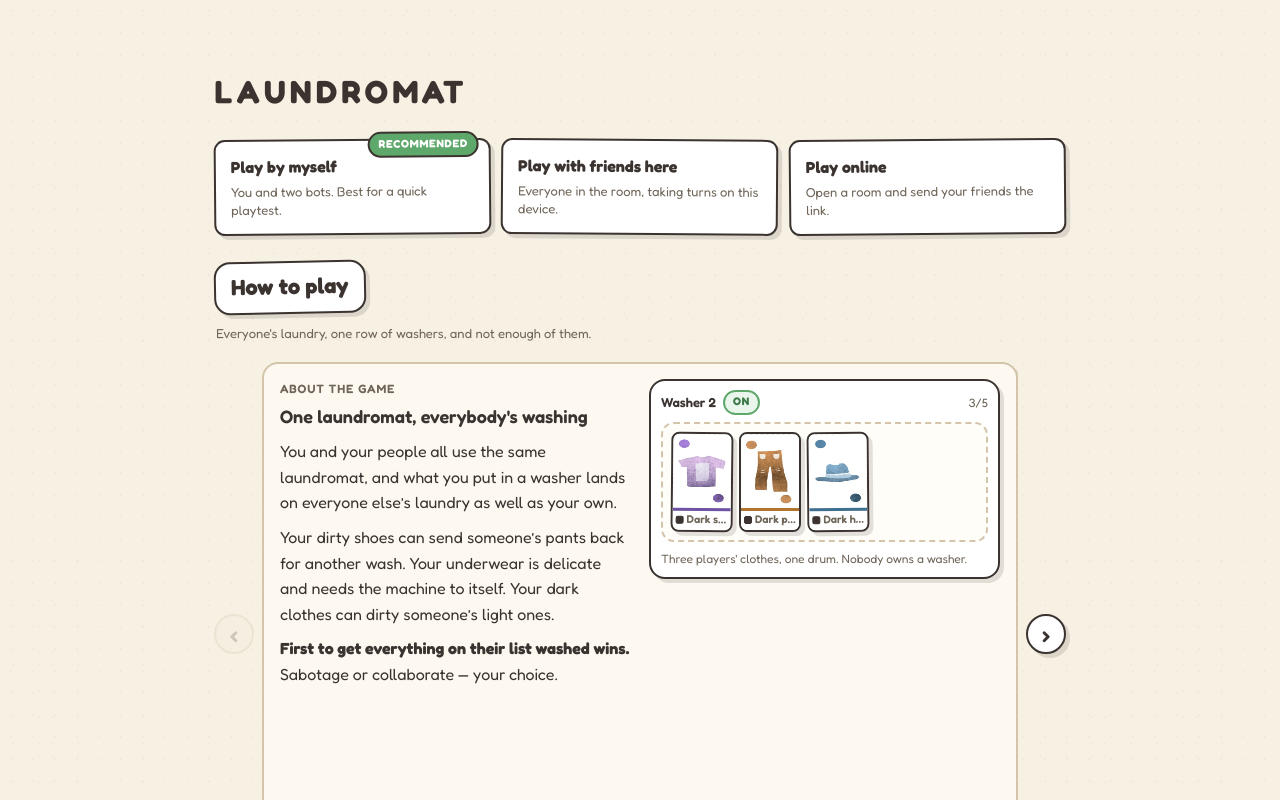
Test: mode chooser › online is a detour, not a trap — Back returns to hot-seat
Click the text "Play online". click: (846, 167)
box: top-left (805, 154), bottom-right (886, 180)
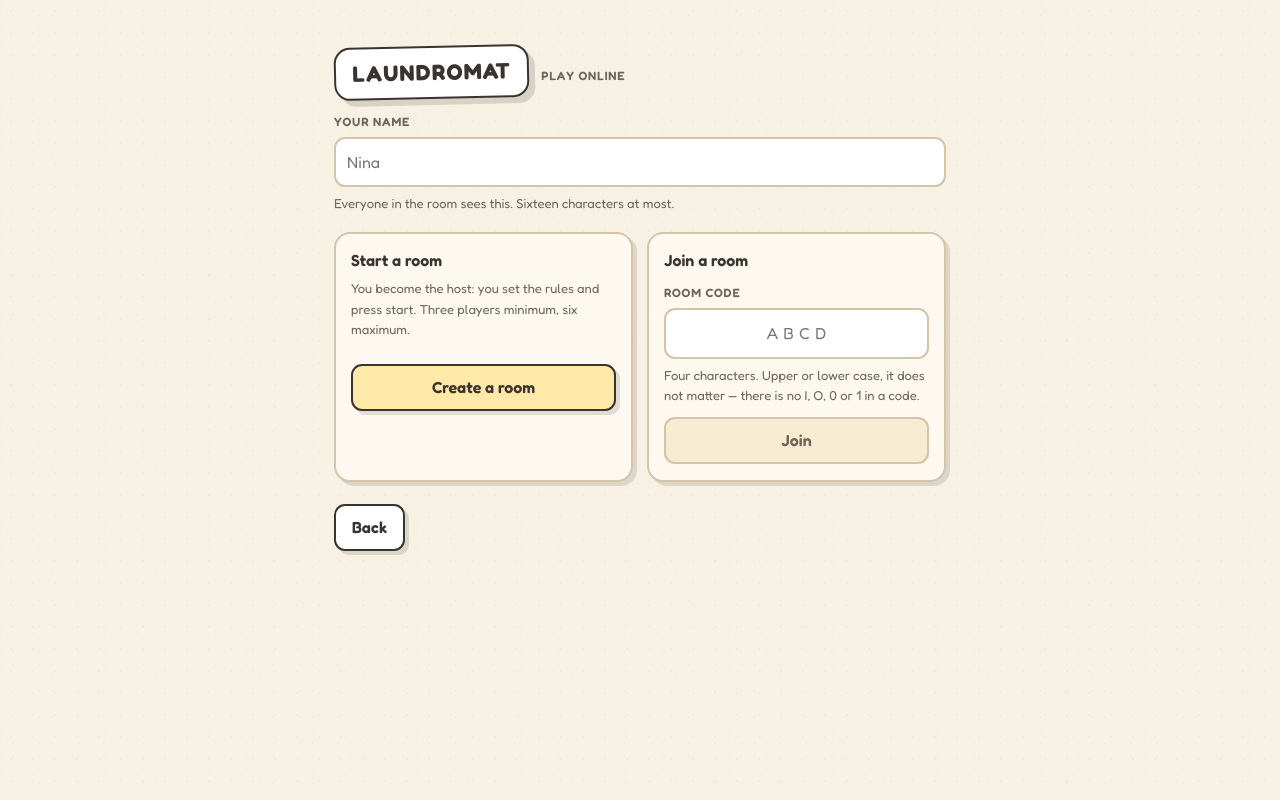
Expected: the heading "Start a room" is shown, top-left (351, 250), bottom-right (442, 270)
Click the button "Back". click: (370, 527)
box: top-left (334, 504), bottom-right (405, 551)
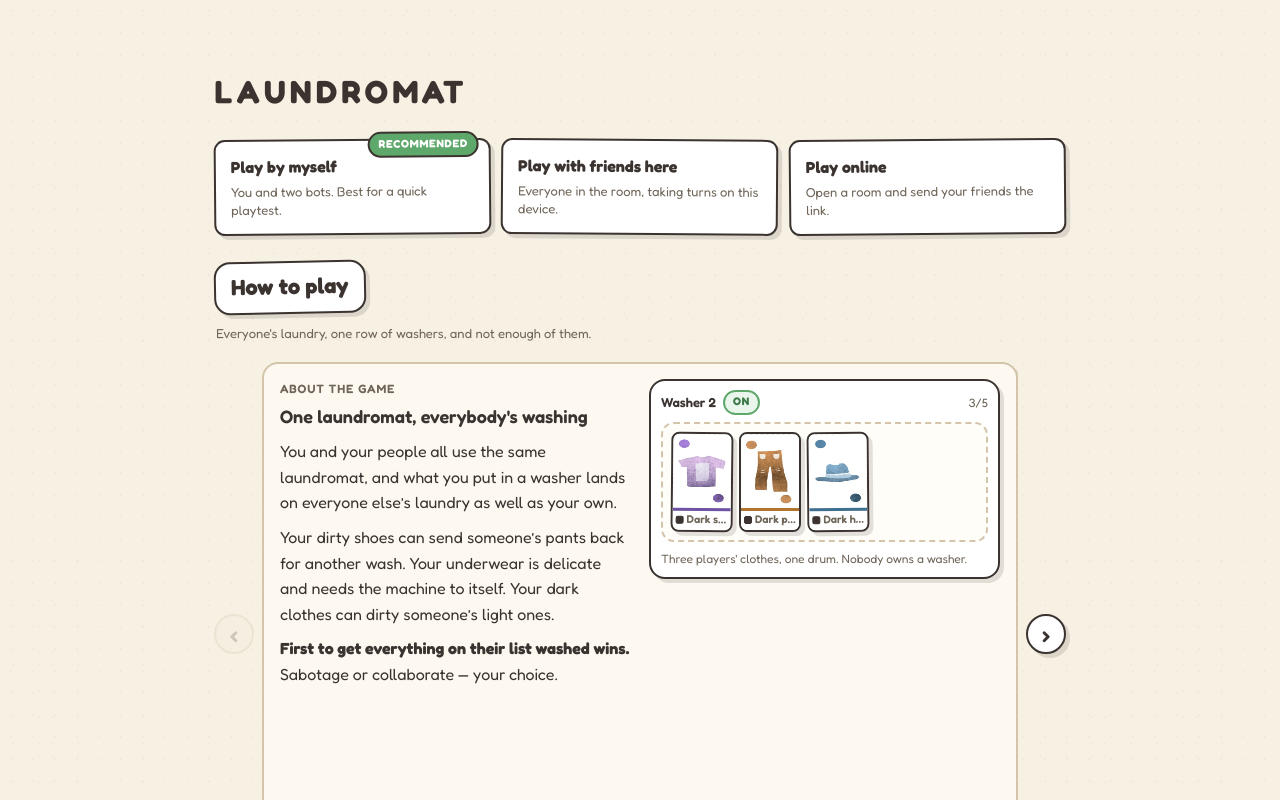
Expected: the text "Play with friends here" is shown, top-left (518, 153), bottom-right (678, 179)
